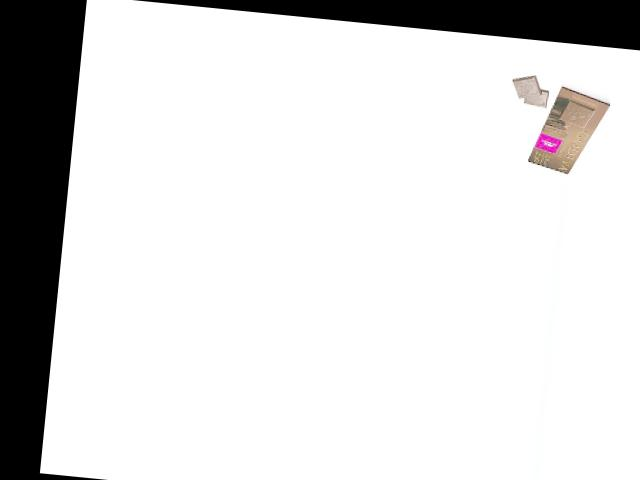chocolate: (525, 81, 612, 178)
